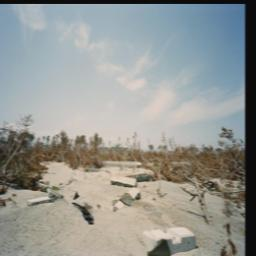Swallow: (66, 203, 94, 225)
